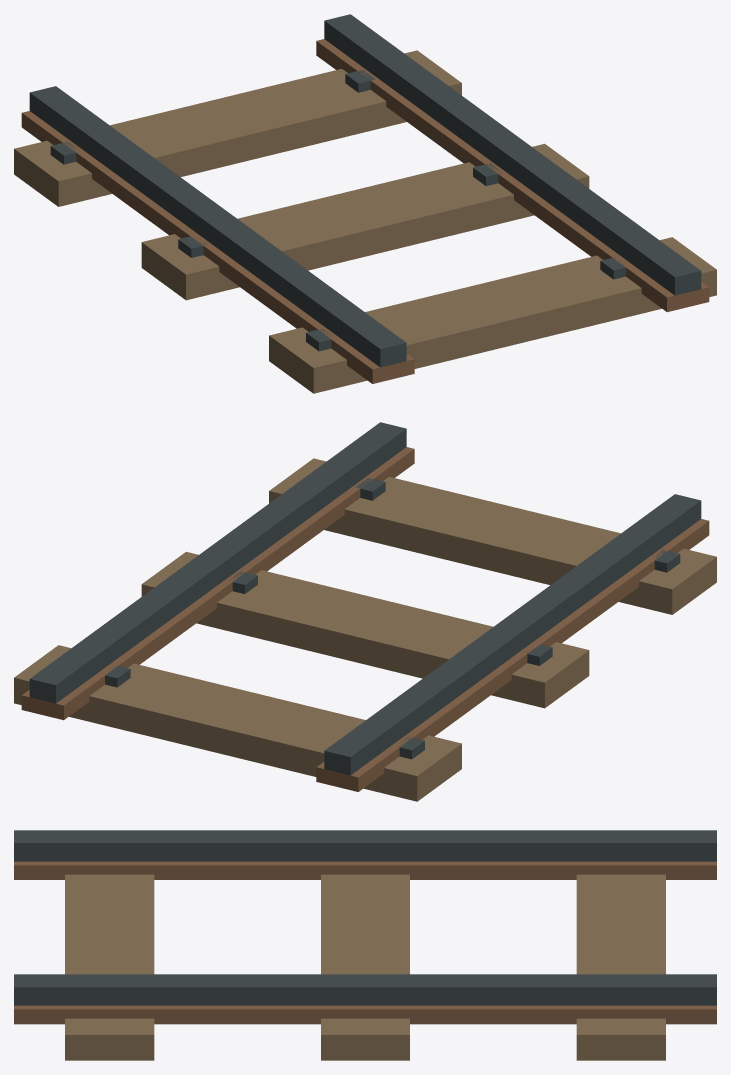
File: Mine_Rail.fbx
3 views of the same model, one above another, from view 1: azimuth 30°, elevation 25°; view 2: azimuth 150°, elevation 25°; view 3: azimuth 270°, elevation 25° (orthographic).
Visible parts, largest first — view 1: Mine_Rail; view 2: Mine_Rail; view 3: Mine_Rail.
Part boxes in pixels (bbox=[...]): Mine_Rail: bbox=[14, 14, 716, 393]; Mine_Rail: bbox=[14, 422, 716, 801]; Mine_Rail: bbox=[14, 830, 716, 1060].
Size of the model in its own units: 1.15 by 0.145 by 1.73.
